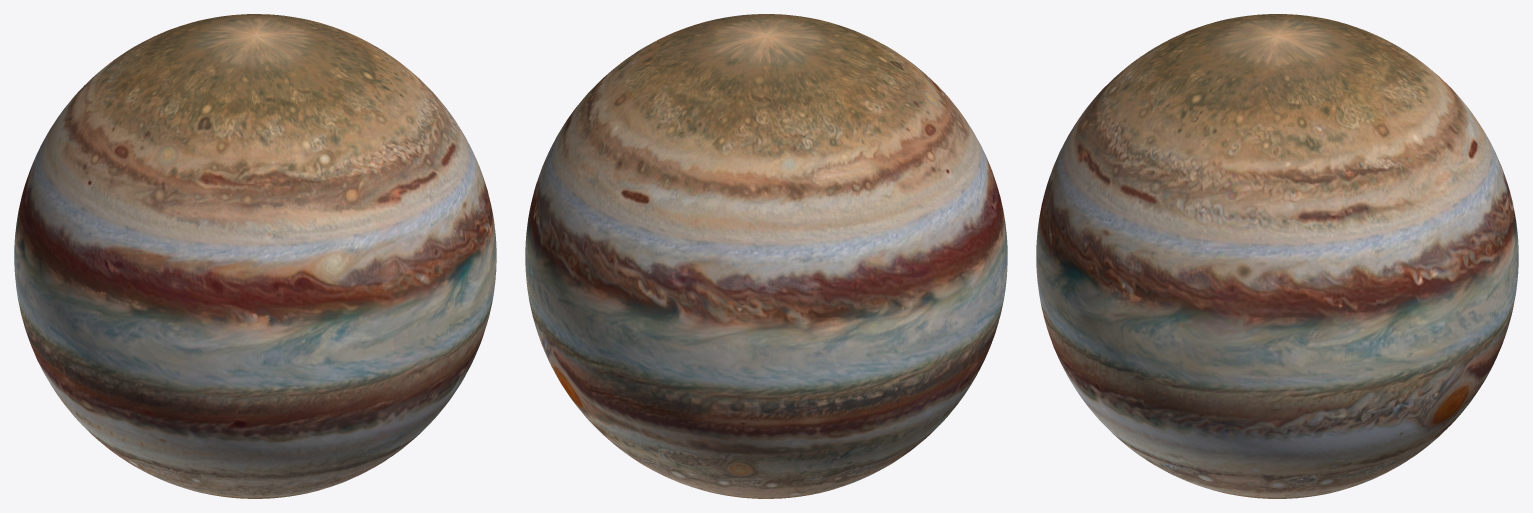
Rendered from jupiter.gltf.
The picture shows the model from 3 angles, left to right: view 1: azimuth 30°, elevation 25°; view 2: azimuth 150°, elevation 25°; view 3: azimuth 270°, elevation 25°; orthographic projection.
Visible parts, largest first — view 1: Sphere_2; view 2: Sphere_2; view 3: Sphere_2.
Boxes of the visible parts, x1,y1,x2,y2 form: Sphere_2: (14,14,496,498); Sphere_2: (525,14,1007,498); Sphere_2: (1036,14,1518,498).
Size of the model in its own units: 2.23 by 2.25 by 2.23.
Materials: 1 (1 with a texture image).
